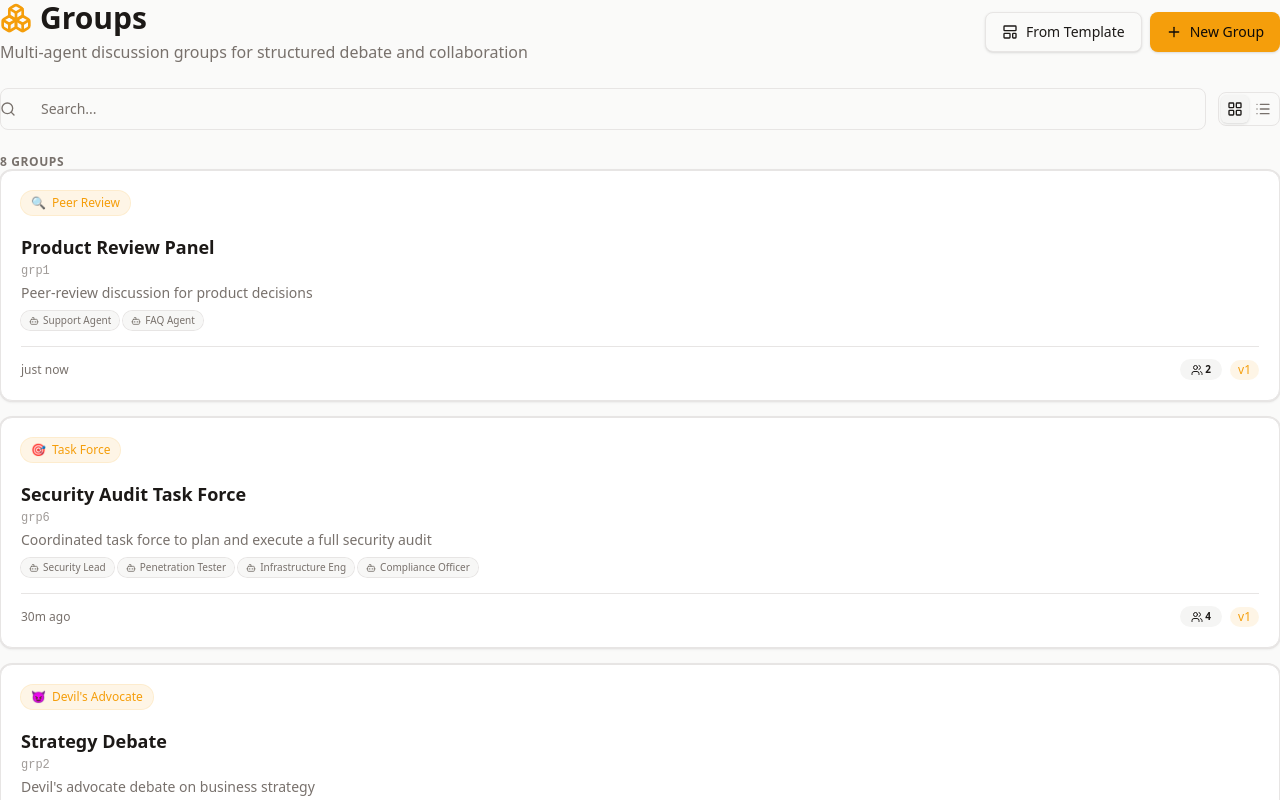
Test: GroupsPage › shows delete confirmation dialog and can cancel it
Click the radio button with test id "view-toggle-list".
click(1263, 109)  # box [1249,95,1277,123]
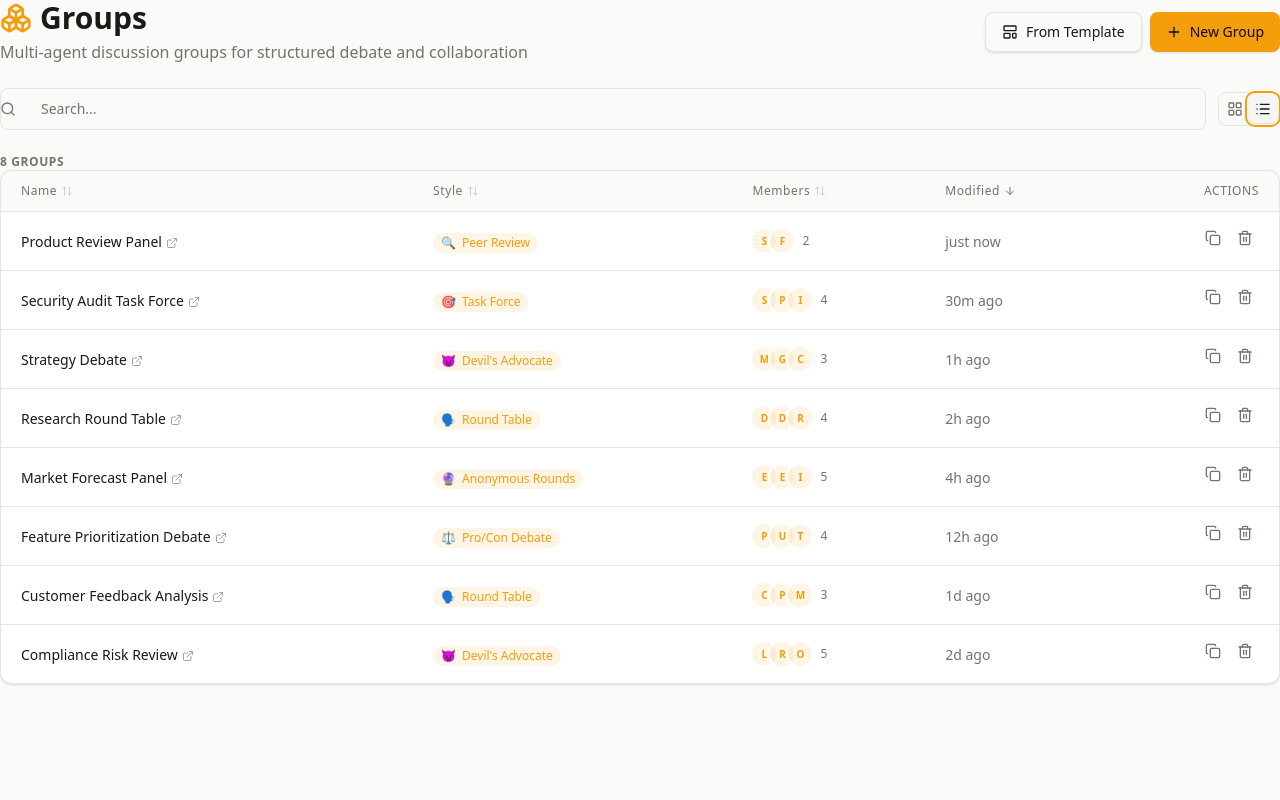
Check: the element with test id "group-list" is shown
// Click delete on the first group
Click the button titled "delete" in the row of "Product Review Panel".
click(1245, 238)  # box [1231,224,1259,252]
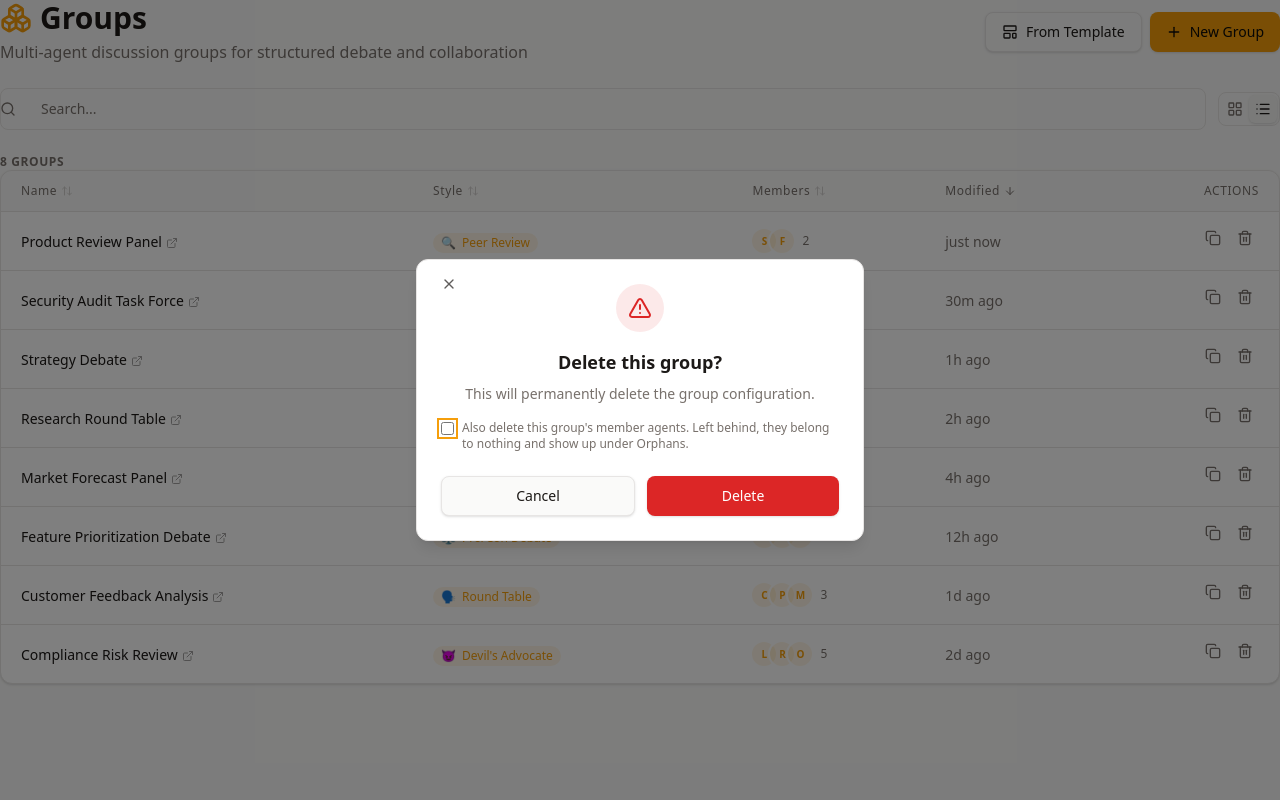
Check: the heading "Delete this group?" is shown, box [558,350,722,374]
Check: the text "This will permanently delete the group configuration." is shown, box [465,384,815,404]
// Click cancel
Click the button "Cancel".
click(538, 496)  # box [441,476,635,516]
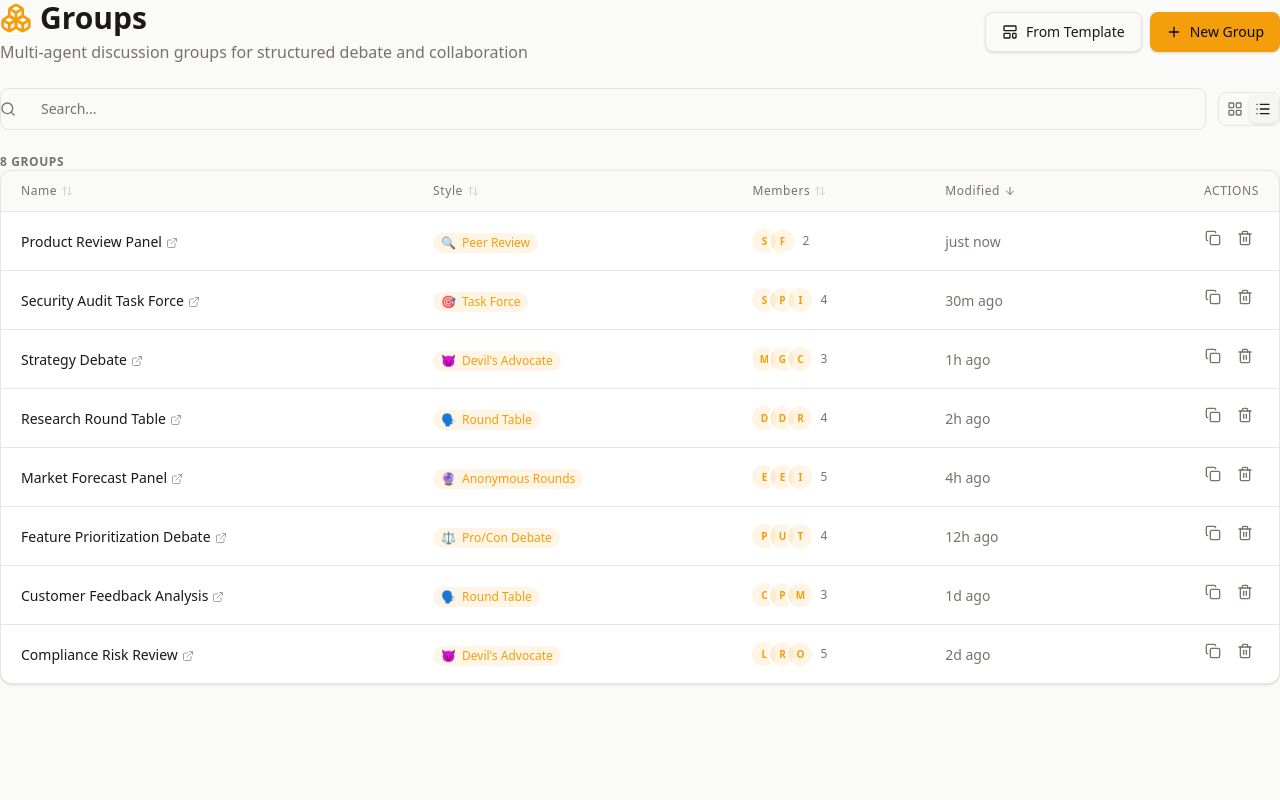
Check: the heading "Delete this group?" is gone
